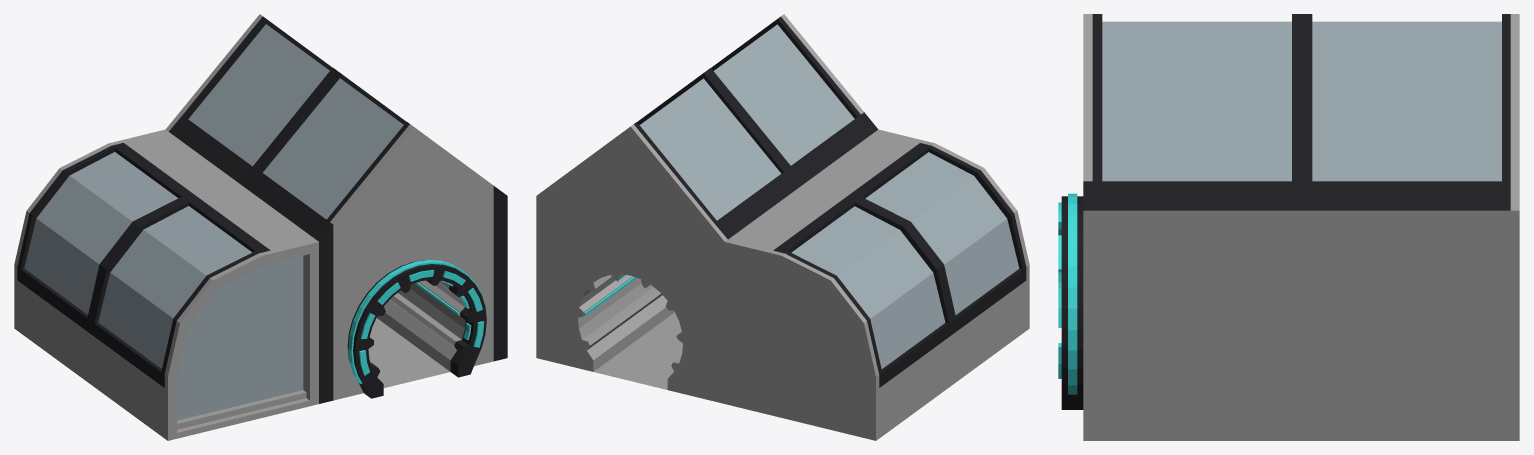
File: Tunnel_Model.obj
The picture shows the model from 3 angles, left to right: view 1: azimuth 30°, elevation 25°; view 2: azimuth 150°, elevation 25°; view 3: azimuth 270°, elevation 25°; orthographic projection. The views are drawn at different scales.
Parts seen in each view (by area): view 1: Cylinder; view 2: Cylinder; view 3: Cylinder.
Part boxes in pixels (x1,y1,x2,y2): Cylinder: (14, 14, 507, 440); Cylinder: (536, 14, 1029, 440); Cylinder: (1058, 14, 1519, 440).
Size of the model in its own units: 19.78 by 14.16 by 16.38.
Materials: 1 (1 with a texture image).
